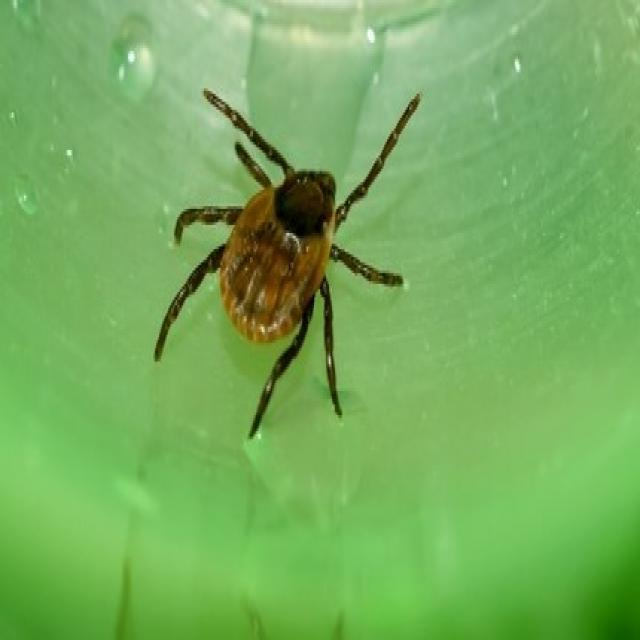Rhipicephalus Sanguineus-F: (155, 94, 421, 426)
